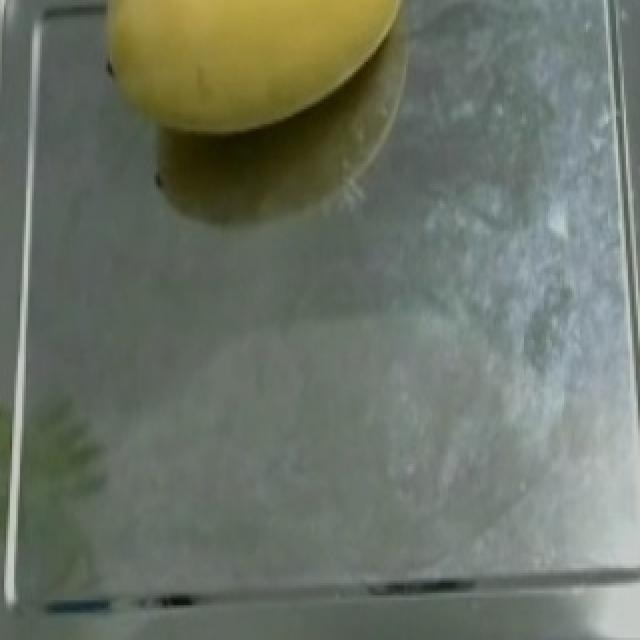fruit: (88, 0, 430, 154)
